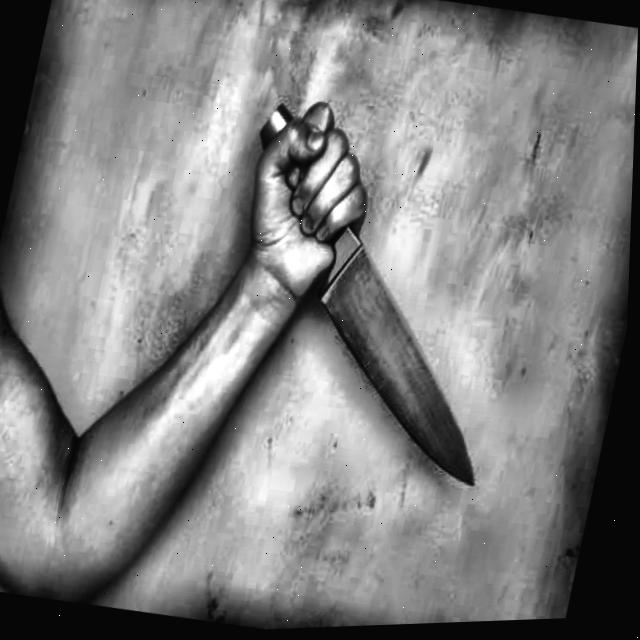pisau: (188, 76, 559, 509)
